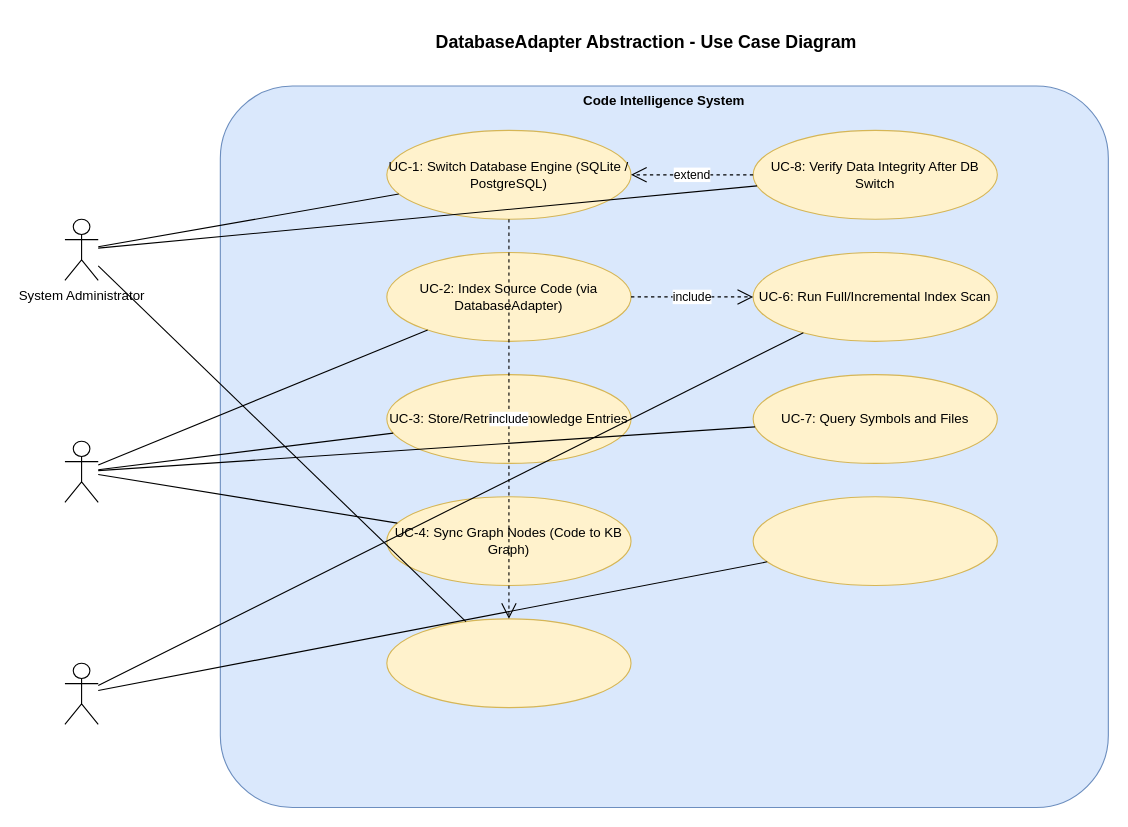
Image size: 1128x827. Some labels were removed from this diagram. Each missing label, with the centre of its shape:
"CI/CD Pipeline" goes at (81,693).
"Developer" goes at (81,471).
"UC-5: Migrate Data Between DB Engines" goes at (508,663).
"UC-9: Backward Compatible SQLite Operation" goes at (874,541).
